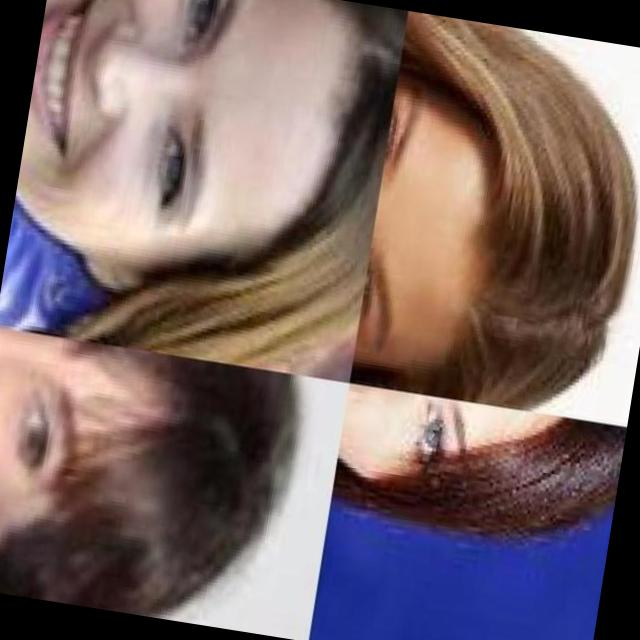bareface: (8, 0, 398, 293)
